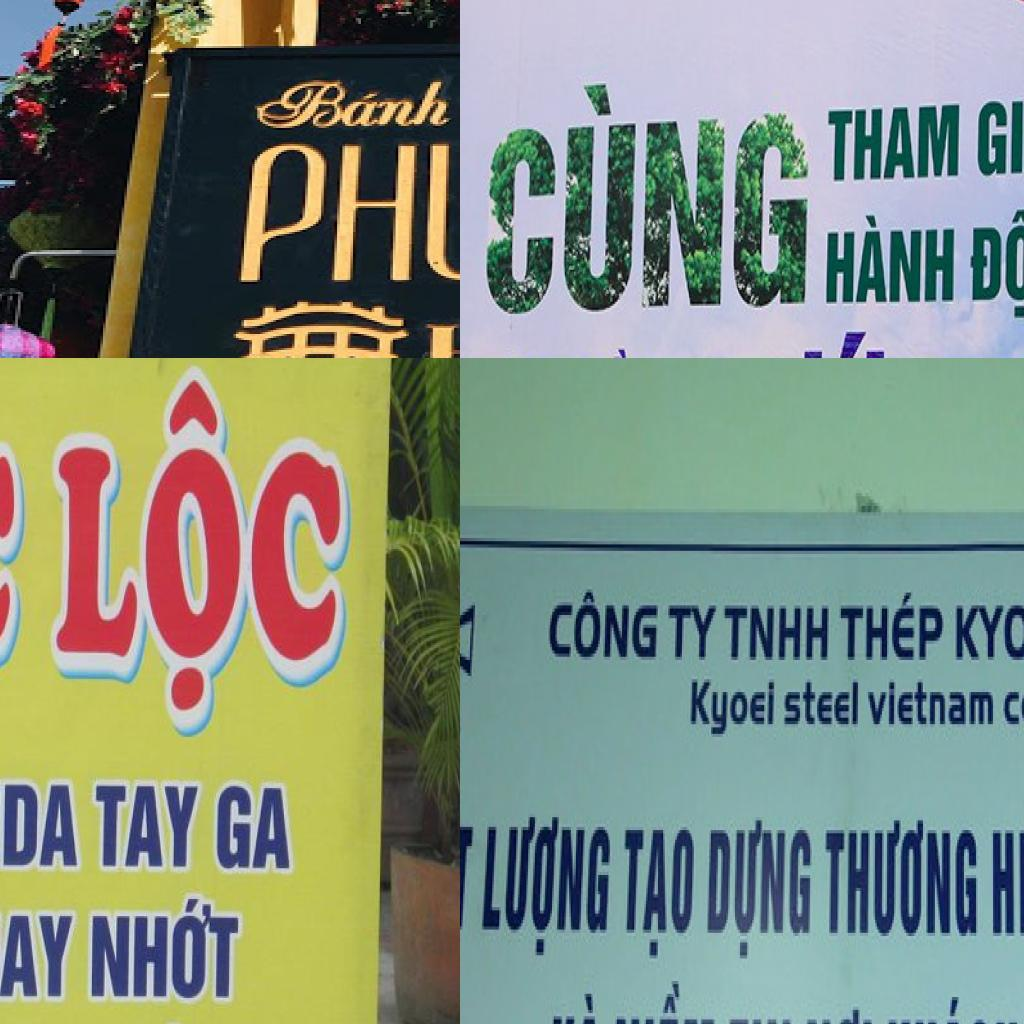text: (41, 358, 357, 745), (478, 73, 817, 318), (230, 138, 460, 306), (83, 887, 246, 1005), (826, 818, 980, 942), (478, 818, 614, 958), (704, 817, 814, 965), (821, 206, 959, 308), (824, 96, 962, 190), (243, 78, 460, 134), (89, 776, 201, 873), (619, 827, 697, 962), (214, 779, 302, 882), (839, 583, 945, 666), (0, 774, 84, 873), (548, 589, 660, 663), (0, 909, 78, 1006), (723, 602, 832, 666), (866, 679, 996, 731), (967, 205, 1024, 323), (690, 673, 776, 740), (991, 804, 1024, 964), (971, 97, 1024, 183), (612, 981, 718, 1024), (955, 602, 1024, 666), (783, 679, 861, 731), (666, 602, 720, 663), (548, 990, 599, 1024), (1001, 685, 1024, 737)
